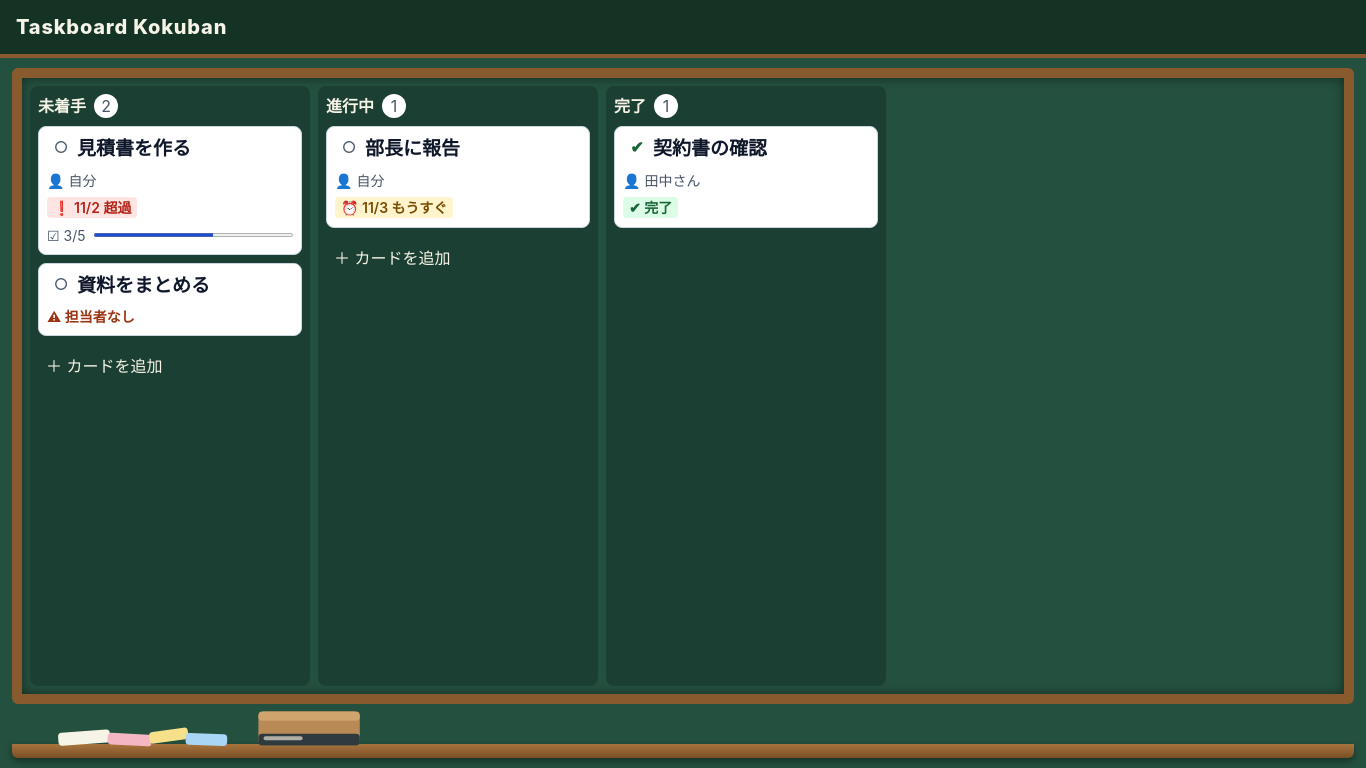
BoardPage › カードの追加 › 追加すると、そのリストの最後にカードが増え、件数も増える。続けて追加できる
expect the text named "2件" is shown: met, box [94,94,118,118]
Click the button "＋ カードを追加" below "⚠ 担当者なし".
click(104, 366)  # box [38,344,302,388]
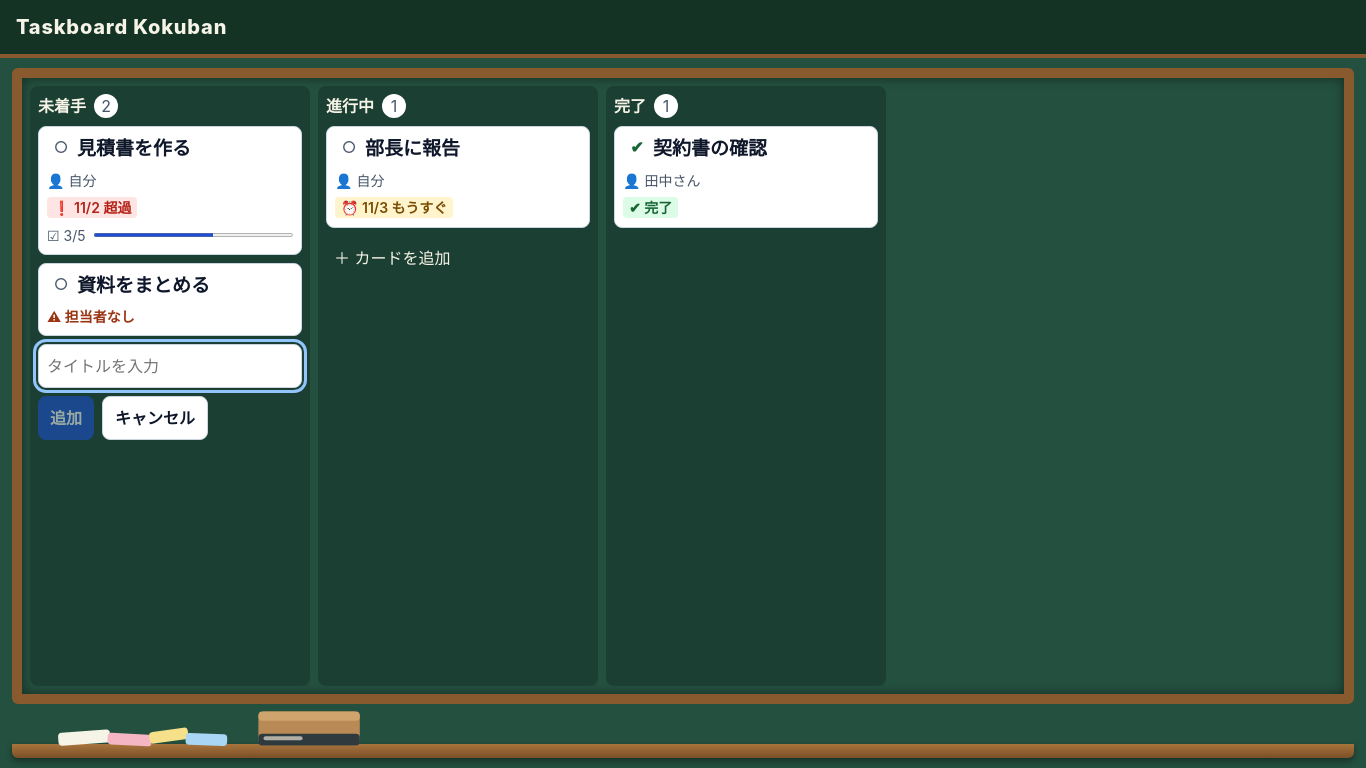
Type "請求書を送る" into the field named "カードのタイトル".
click(170, 366); type("請求書を送る")  # box [38,344,302,388]
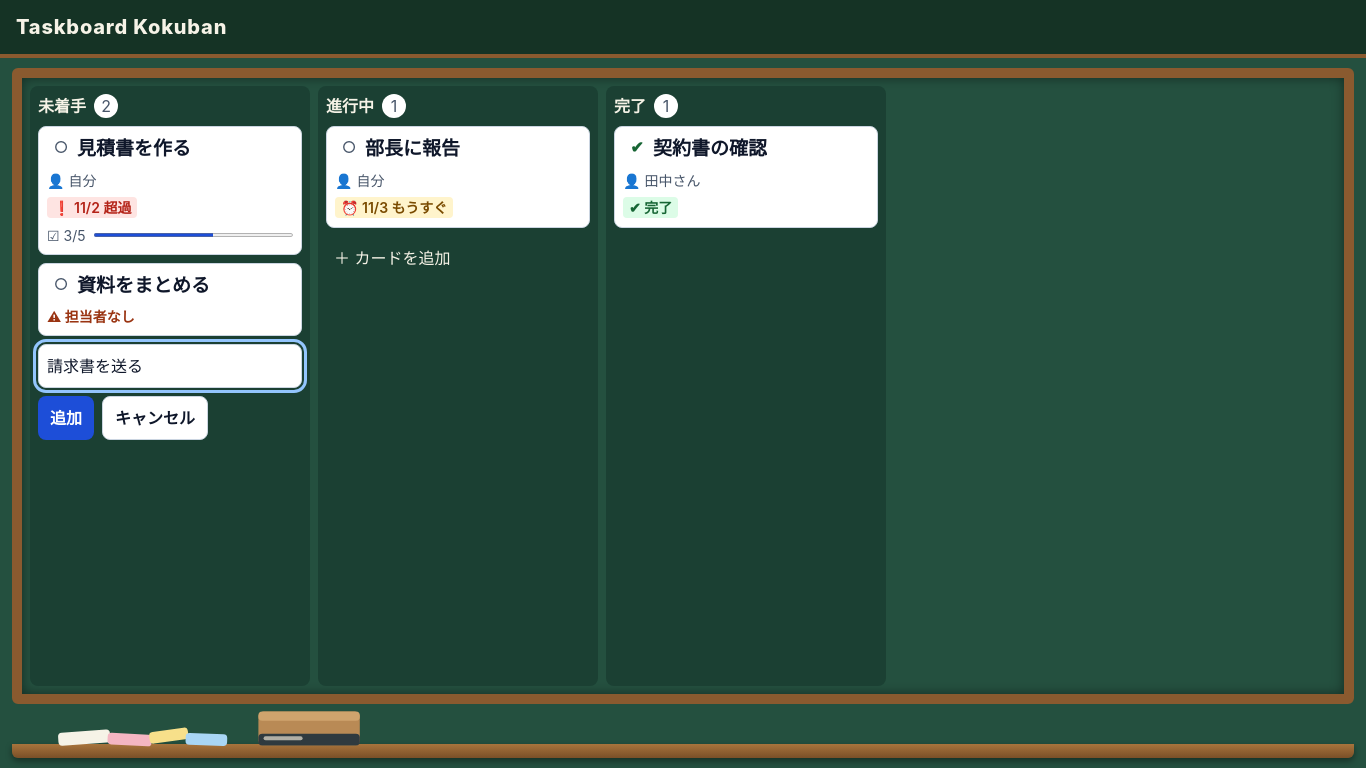
Click the button "追加".
click(66, 418)  # box [38,396,94,440]
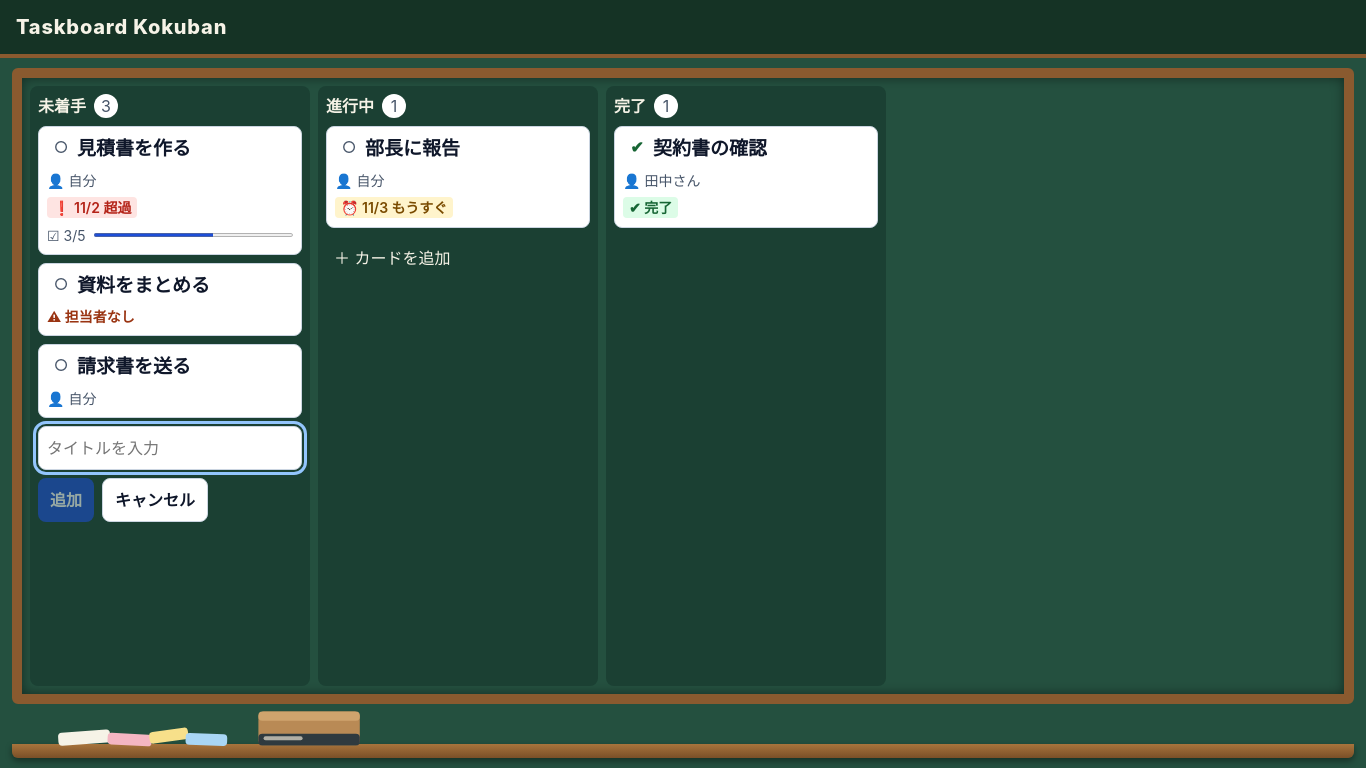
expect the heading "請求書を送る" is shown: met, box [77,353,191,382]
expect the text named "3件" is shown: met, box [94,94,118,118]
expect the field named "カードのタイトル" is empty: met
Type "見積書を確認する" into the field named "カードのタイトル".
click(170, 448); type("見積書を確認する")  # box [38,426,302,470]
Then press Enter
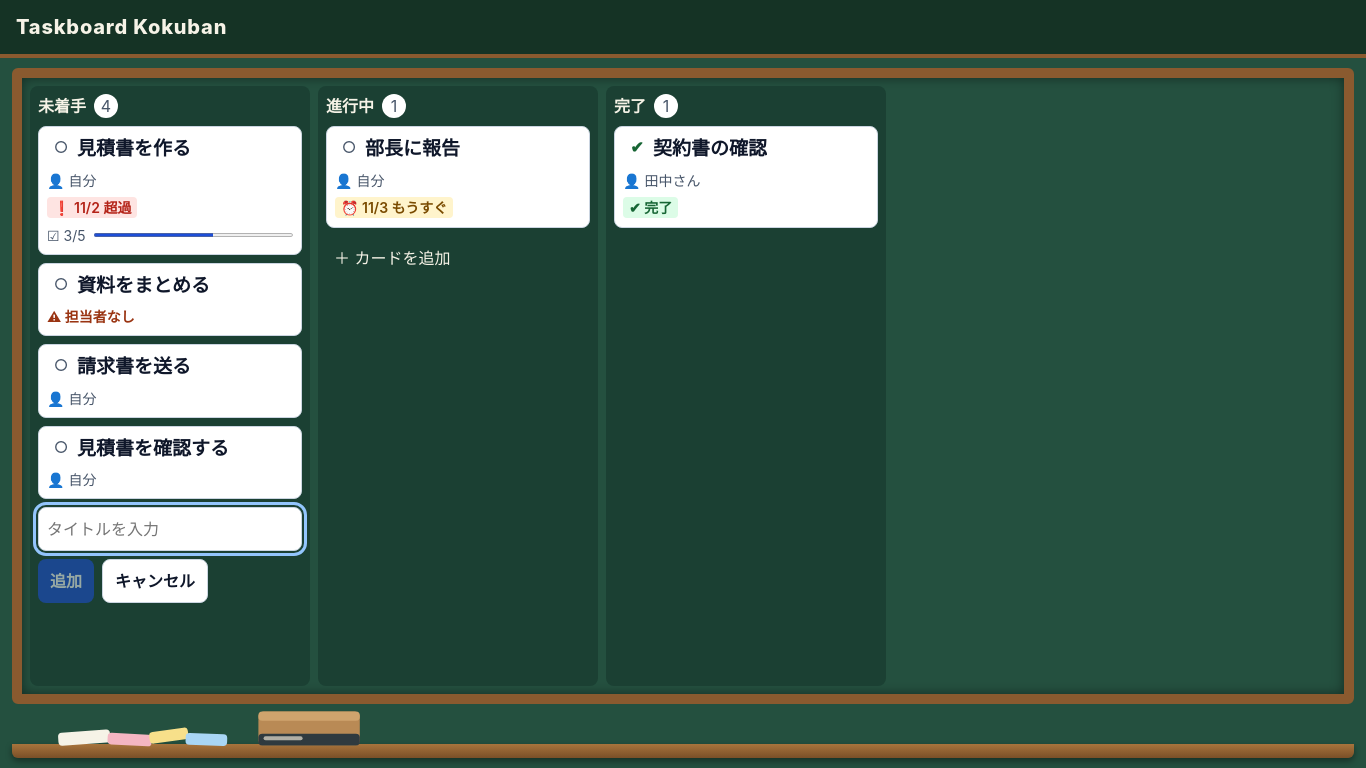
expect the text named "1件" is shown: met, box [382,94,406,118]
expect the heading "見積書を確認する" is shown: met, box [77,434,229,463]
expect the text named "4件" is shown: met, box [94,94,118,118]
